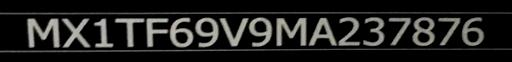letter: (20, 14, 64, 50), (270, 14, 310, 48), (306, 13, 340, 49), (58, 16, 92, 50), (112, 15, 146, 47), (219, 14, 249, 48), (361, 14, 389, 50), (386, 15, 414, 51), (459, 13, 487, 47), (434, 14, 462, 48), (167, 14, 195, 48), (191, 15, 219, 49), (336, 13, 362, 49), (412, 13, 436, 51), (144, 15, 170, 49), (248, 15, 274, 47), (90, 17, 114, 48)
